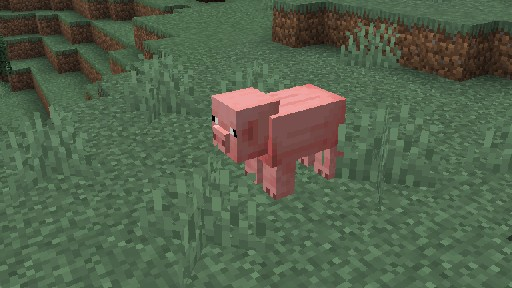pig: (210, 82, 347, 200)
